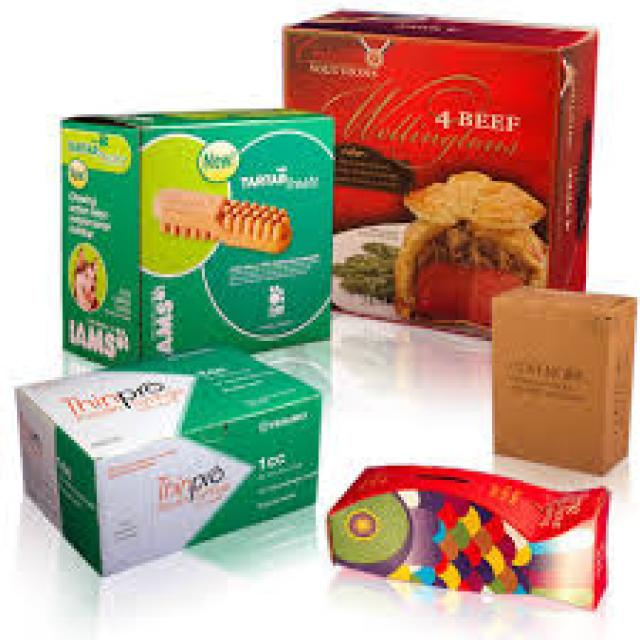cardboard: (279, 6, 589, 340), (14, 343, 316, 574), (60, 109, 327, 366), (327, 463, 609, 611), (490, 289, 632, 474)
